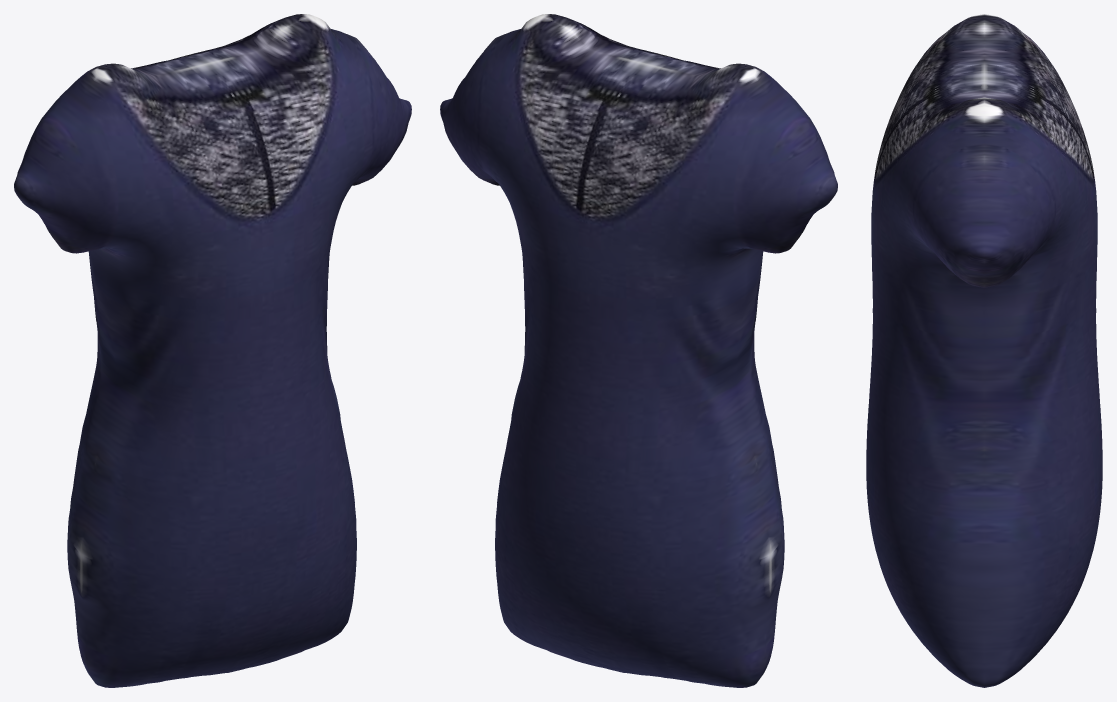
Rendered from 7SI21D04N-K11@10=cloth_front.glb.
3 renders of one model, left to right at view 1: azimuth 30°, elevation 25°; view 2: azimuth 150°, elevation 25°; view 3: azimuth 270°, elevation 25°, orthographic. The views are drawn at different scales.
Bounding box in the file's own units: 4.48 × 6.78 × 2.51.
Materials: 1 (1 with a texture image).
